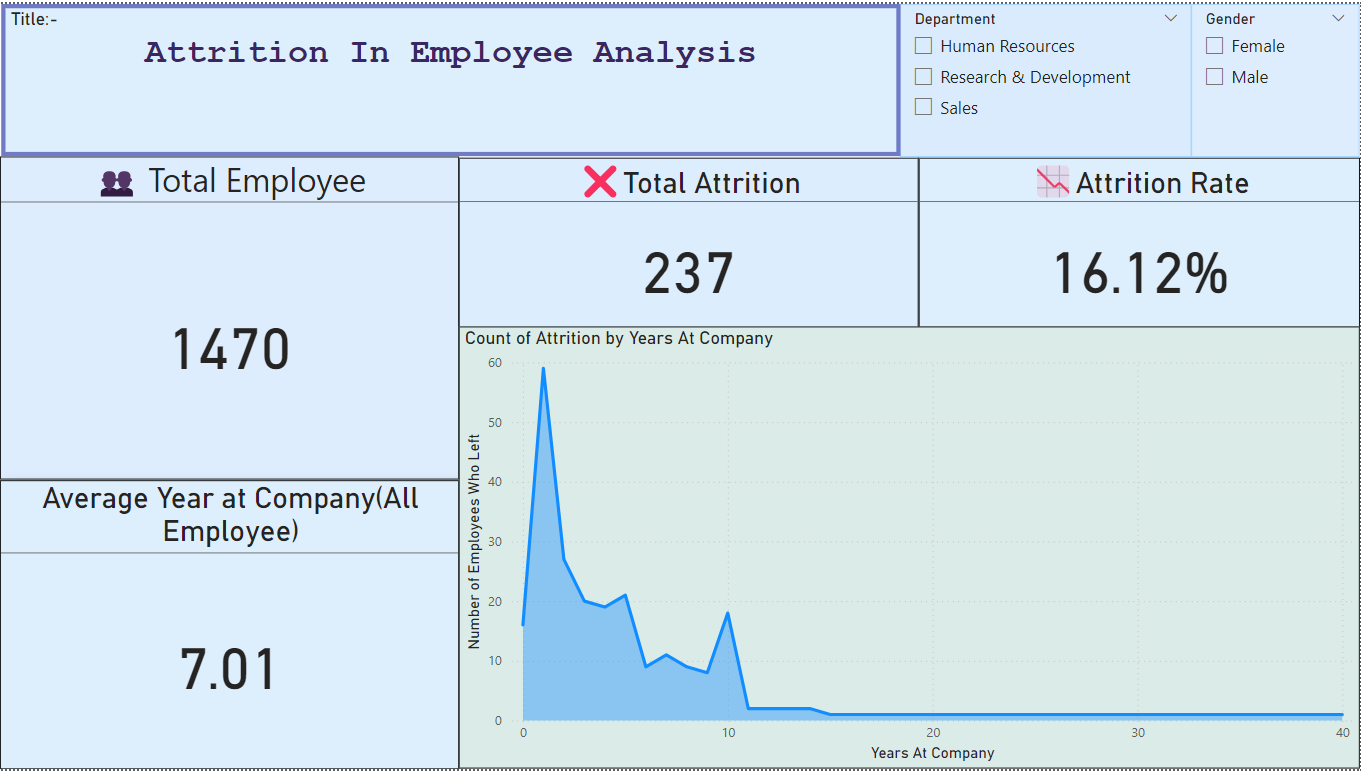

What the dashboard file says about the page in this screenshot:
{"tool":"powerbi","page":{"name":"Page 1","canvas":[1280,720],"ordinal":0},"visuals":[{"type":"card","title":"👥 Total Employee","fields":{"Values":["WA_Fn-UseC_-HR-Employee-Attrition.Total Employee"]},"box":[0,143.5,431.9,304.3],"z":0},{"type":"card","title":"❌Total Attrition","fields":{"Values":["WA_Fn-UseC_-HR-Employee-Attrition.Attrition Count"]},"box":[431.4,144.2,432.6,160.5],"z":1000},{"type":"card","title":"Average Year at Company(All Employee) ","fields":{"Values":["WA_Fn-UseC_-HR-Employee-Attrition.Average Years At Company"]},"box":[0,448,432,272],"z":2000},{"type":"card","title":"📉Attrition Rate","fields":{"Values":["WA_Fn-UseC_-HR-Employee-Attrition.Attrition %"]},"box":[864.3,144.9,415.3,160.2],"z":3000},{"type":"areaChart","fields":{"Category":["WA_Fn-UseC_-HR-Employee-Attrition.Years At Company"],"Y":["CountNonNull(WA_Fn-UseC_-HR-Employee-Attrition.Attrition)"]},"box":[432,304,848,416],"z":4000},{"type":"slicer","fields":{"Values":["WA_Fn-UseC_-HR-Employee-Attrition.Department"]},"box":[846.9,0,274.5,143.9],"z":5000},{"type":"textbox","title":"Title:-","box":[1,0,846.5,143],"z":6000},{"type":"slicer","fields":{"Values":["WA_Fn-UseC_-HR-Employee-Attrition.Gender"]},"box":[1121.4,0,158.2,143.9],"z":7000}]}

Visuals, with their boxes in screenshot pixels (x1, y1, x2, y2), scaled from the page's 1280x720 canvas onto the 1361x772 screenshot:
"👥 Total Employee" card: {"x1": 0, "y1": 154, "x2": 459, "y2": 480}
"❌Total Attrition" card: {"x1": 459, "y1": 155, "x2": 919, "y2": 327}
"Average Year at Company(All Employee) " card: {"x1": 0, "y1": 480, "x2": 459, "y2": 771}
"📉Attrition Rate" card: {"x1": 919, "y1": 155, "x2": 1360, "y2": 327}
areaChart - WA_Fn-UseC_-HR-Employee-Attrition.Years At Company x CountNonNull(WA_Fn-UseC_-HR-Employee-Attrition.Attrition): {"x1": 459, "y1": 326, "x2": 1360, "y2": 771}
slicer - WA_Fn-UseC_-HR-Employee-Attrition.Department: {"x1": 900, "y1": 0, "x2": 1192, "y2": 154}
"Title:-" textbox: {"x1": 1, "y1": 0, "x2": 901, "y2": 153}
slicer - WA_Fn-UseC_-HR-Employee-Attrition.Gender: {"x1": 1192, "y1": 0, "x2": 1360, "y2": 154}
